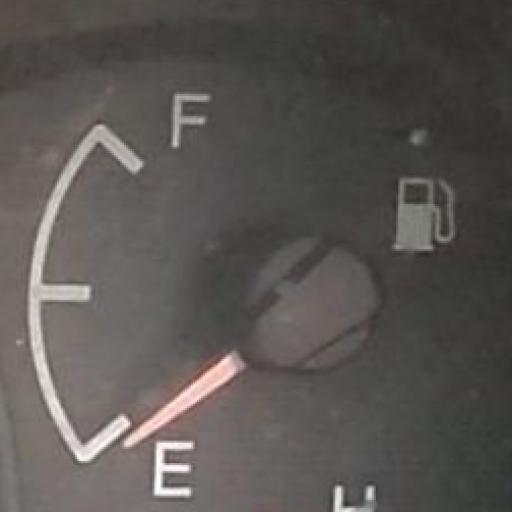empty: (150, 434, 199, 502)
fuel_icon: (381, 166, 459, 261)
full: (167, 81, 215, 153)
guage_area: (24, 39, 471, 512)
needle_center: (222, 229, 388, 383)
needle_tip: (107, 405, 150, 456)
